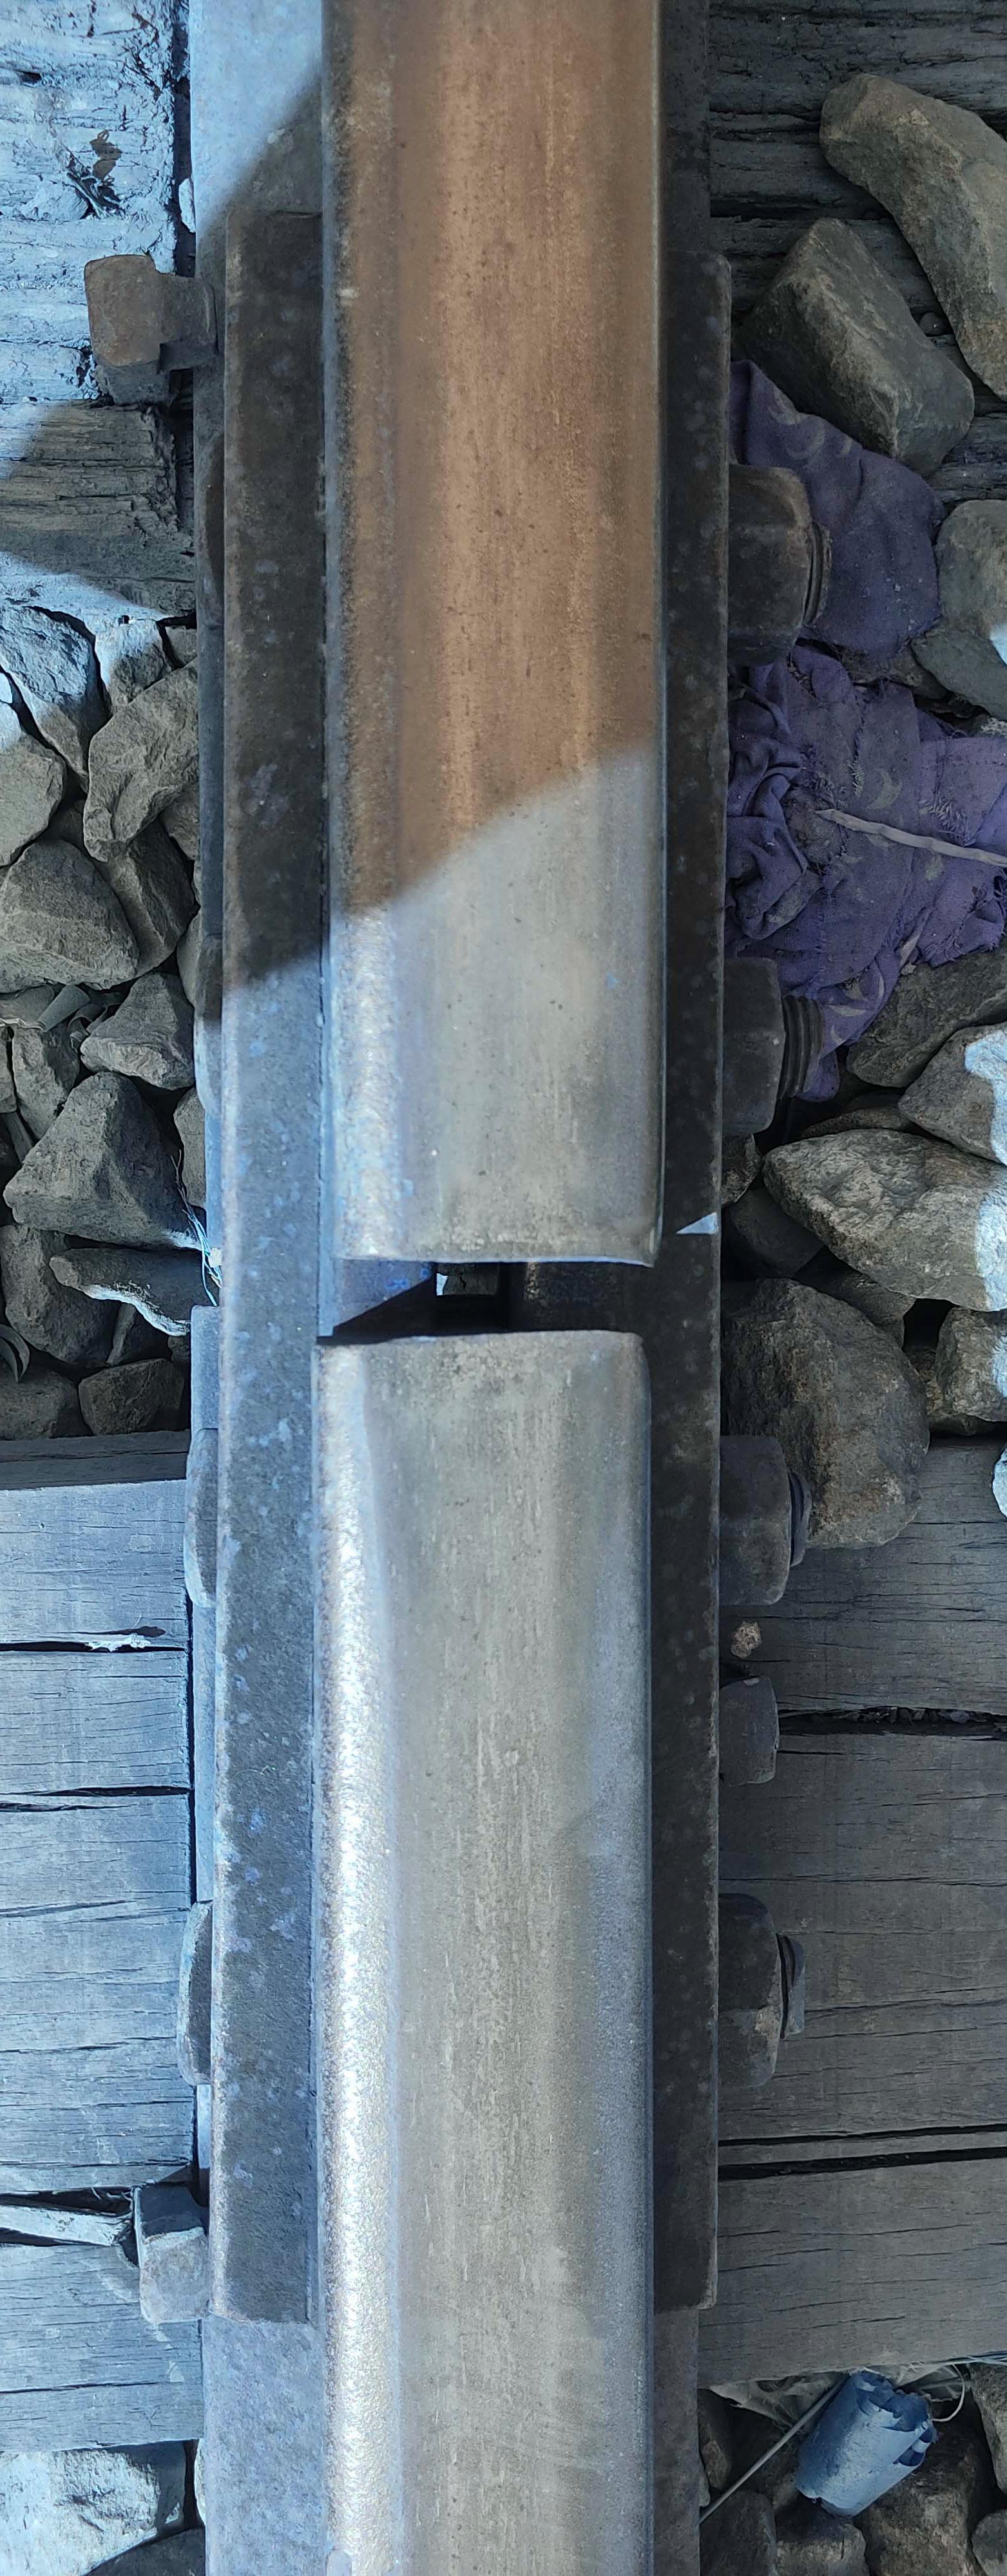error2: (253, 1083, 708, 1511)
